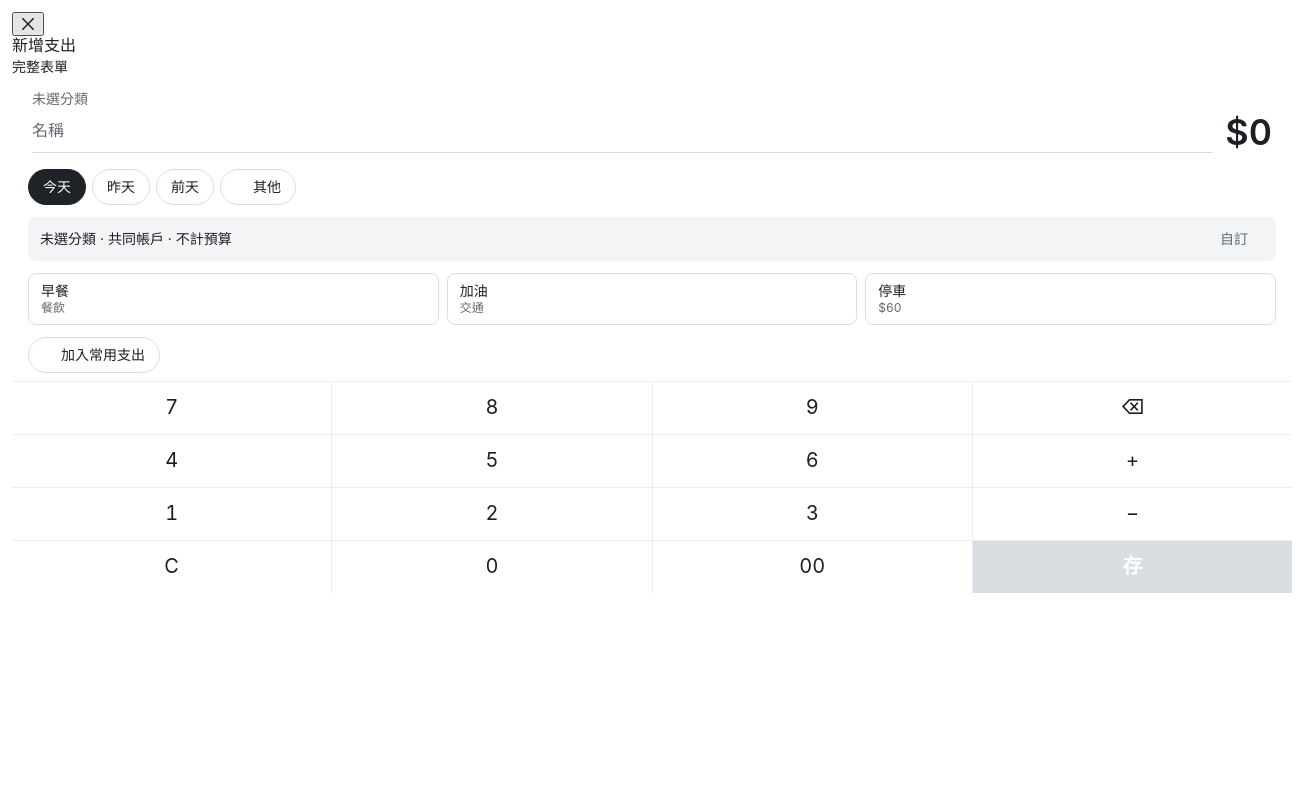
Test case: <QuickExpenseSheet /> › the summary line shows what a template filled in
The width and height of the screenshot is (1304, 812).
Check: the button "未選分類 · 共同帳戶 · 不計預算 自訂" is shown, box [28, 217, 1276, 261]
Click the button with aria-label "常用 早餐".
click(55, 291)  # box [28, 273, 439, 325]
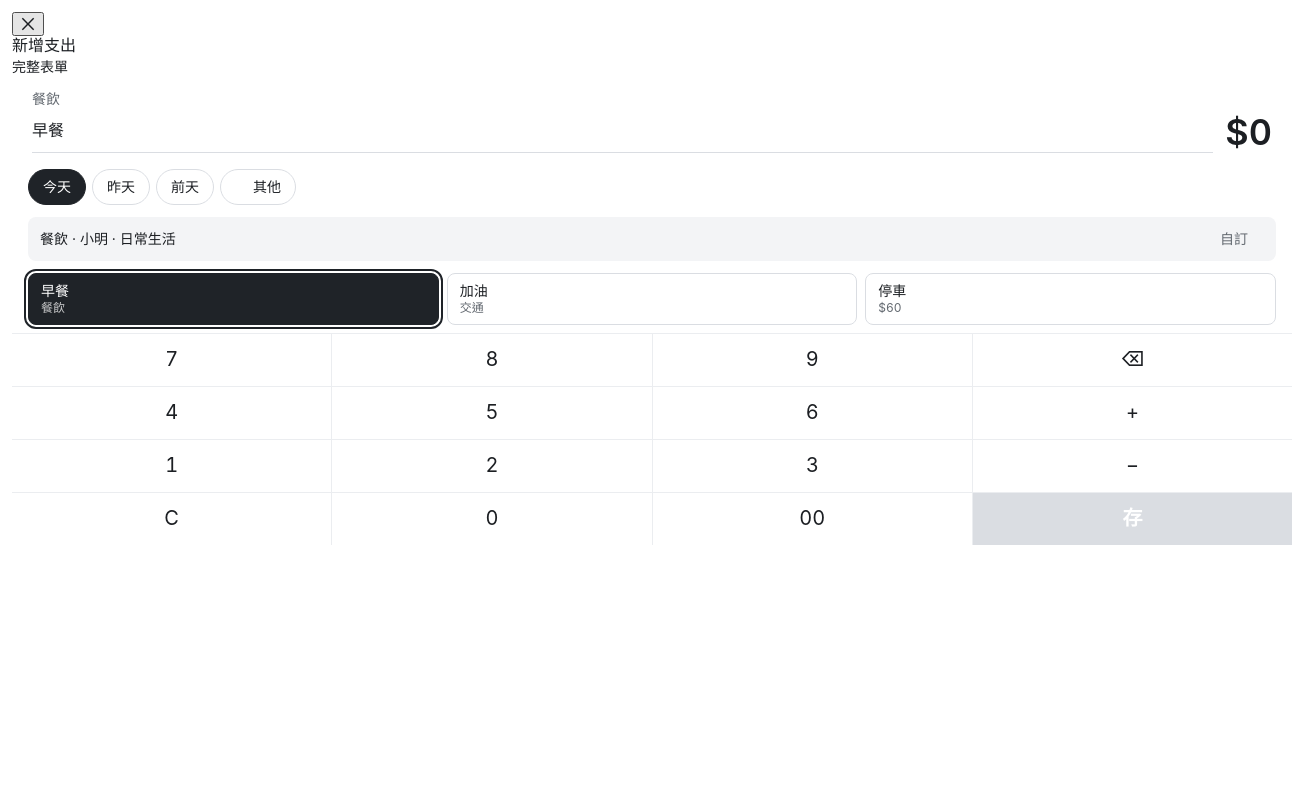
Check: the button "餐飲 · 小明 · 日常生活 自訂" is shown, box [28, 217, 1276, 261]
